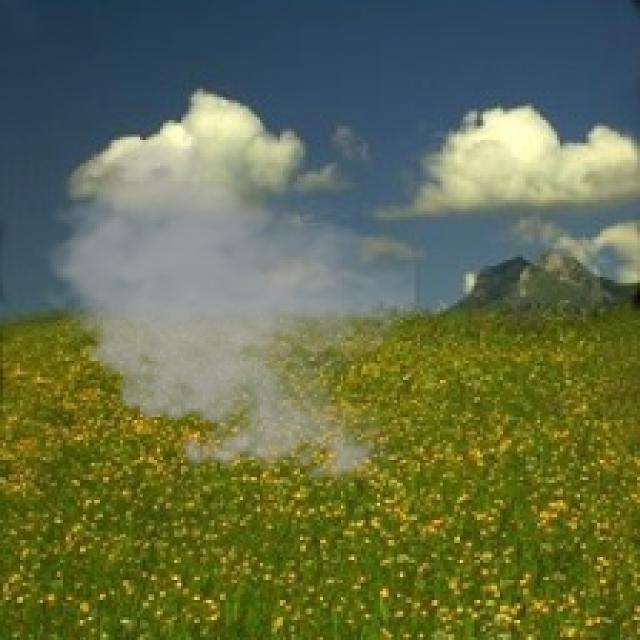smoke: (34, 132, 420, 492)
